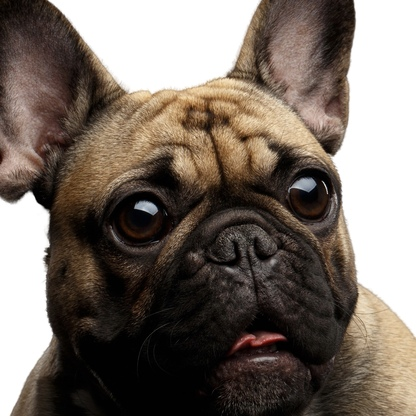bulldog: (6, 7, 400, 402)
